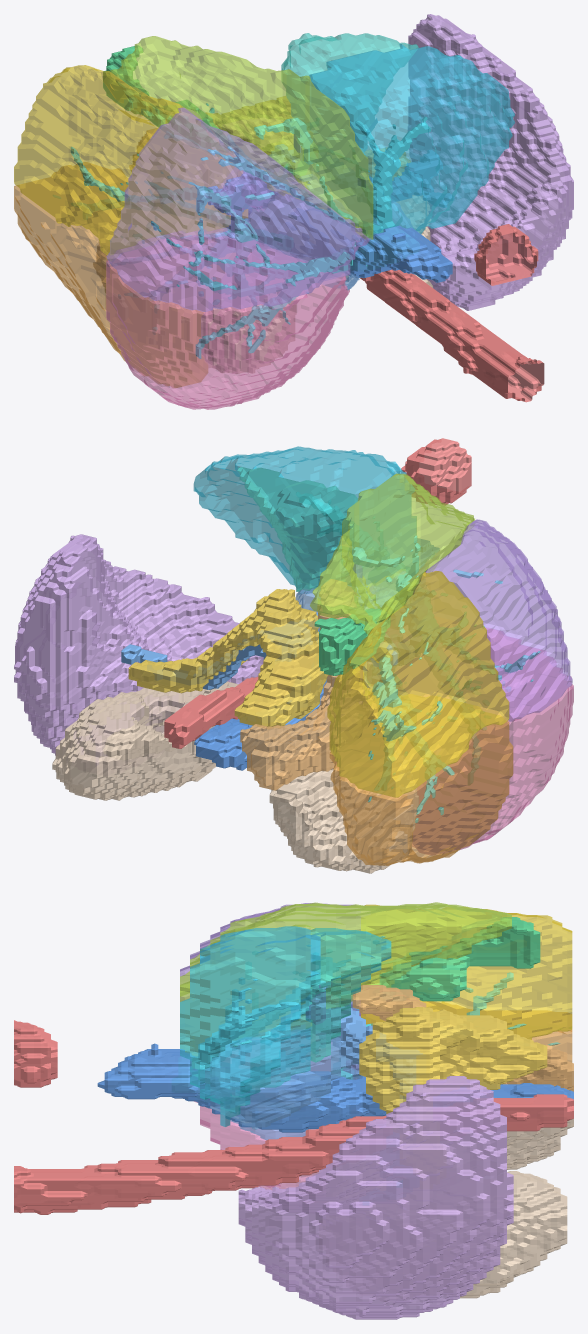
File: anatomy_overlays_aug.glb
The picture shows the model from 3 angles, top to bottom: view 1: azimuth 30°, elevation 25°; view 2: azimuth 150°, elevation 25°; view 3: azimuth 270°, elevation 25°; orthographic projection. The views are drawn at different scales.
Parts seen in each view (by area): view 1: Segment_8, Segment_7, Segment_2, Spleen, Segment_5, Segment_4, Hepatic_Vessels, Segment_6, Aorta, Segment_3, Segment_1, Kidney_Right (+6 smaller); view 2: Segment_5, Spleen, Segment_6, Segment_2, Segment_7, Segment_8, Segment_4, Kidney_Left, Pancreas, Kidney_Right, Hepatic_Vessels, Duodenum (+6 smaller); view 3: Spleen, Segment_4, Segment_2, Aorta, Segment_5, Pancreas, Inferior_Vena_Cava, Segment_1, Gallbladder, Segment_3, Kidney_Left, Hepatic_Vessels (+6 smaller).
Part boxes in pixels (x1,y1,x2,y2): Segment_8: [106, 107, 369, 311]; Segment_7: [106, 235, 349, 409]; Segment_2: [309, 44, 514, 234]; Spleen: [408, 14, 573, 310]; Segment_5: [14, 65, 247, 255]; Segment_4: [110, 36, 373, 239]; Hepatic_Vessels: [53, 103, 430, 358]; Segment_6: [14, 162, 224, 387]; Aorta: [360, 224, 544, 402]; Segment_3: [281, 33, 418, 151]; Segment_1: [249, 166, 413, 290]; Kidney_Right: [93, 242, 296, 373]; Segment_5: [327, 571, 509, 797]; Spleen: [14, 534, 263, 765]; Segment_6: [329, 688, 513, 865]; Segment_2: [193, 446, 416, 593]; Segment_7: [412, 628, 573, 854]; Segment_8: [367, 519, 572, 721]; Segment_4: [310, 473, 474, 634]; Kidney_Left: [52, 681, 238, 800]; Pancreas: [128, 589, 328, 727]; Kidney_Right: [269, 768, 418, 873]; Hepatic_Vessels: [297, 492, 540, 823]; Duodenum: [240, 579, 368, 790]; Spleen: [238, 1076, 513, 1319]; Segment_4: [180, 902, 511, 1055]; Segment_2: [180, 926, 320, 1126]; Aorta: [14, 1020, 573, 1214]; Segment_5: [361, 904, 572, 1039]; Pancreas: [359, 1007, 547, 1113]; Inferior_Vena_Cava: [97, 1043, 573, 1132]; Segment_1: [200, 1027, 360, 1140]; Gallbladder: [379, 917, 540, 1001]; Segment_3: [310, 928, 391, 1062]; Kidney_Left: [378, 1171, 567, 1298]; Hepatic_Vessels: [172, 936, 559, 1129].
Bounding box in the file's own units: 236 × 162 × 250.
